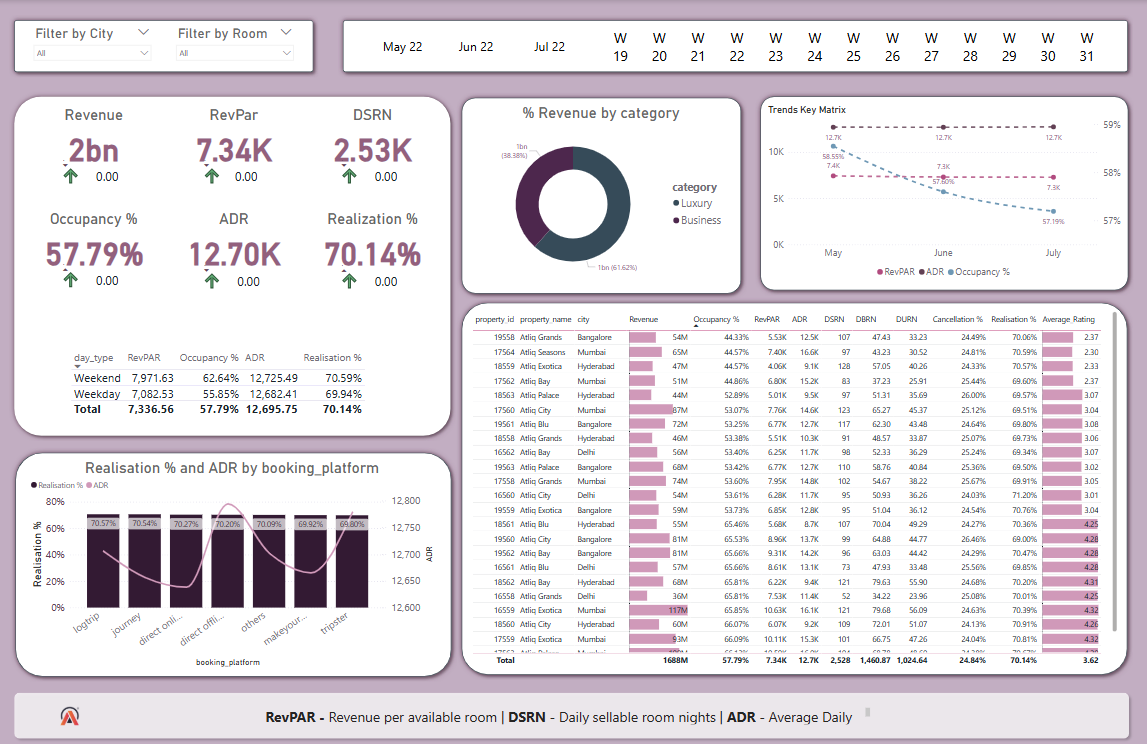

This screenshot's page, from the dashboard's own definition file:
{"tool":"powerbi","page":{"name":"Page 1","canvas":[2000,1300],"ordinal":0},"visuals":[{"type":"shape","box":[18.1,26.1,538.9,108.6],"z":0,"group":"g1"},{"type":"shape","box":[591.2,26.1,1385.4,108.6],"z":0,"group":"g2"},{"type":"shape","box":[1317.1,158.8,659.5,355.9],"z":0,"group":"g4"},{"type":"shape","box":[797.3,161.2,505.4,359.4],"z":0},{"type":"shape","box":[797.3,518.4,1178.5,666.6],"z":1000},{"type":"slicer","fields":{"Values":["dim_date.mmm yy"]},"box":[614.5,32.1,432.2,96.5],"z":2000,"group":"g5"},{"type":"slicer","fields":{"Values":["dim_hotels.city"]},"box":[51.3,38.2,225.2,84.5],"z":2000,"group":"g6"},{"type":"card","title":"Revenue","fields":{"Values":["key_measures_table.Revenue"]},"box":[44.5,185.2,243.1,114.5],"z":2000,"group":"g3"},{"type":"shape","box":[18.6,780.2,778.2,408.2],"z":2000},{"type":"slicer","fields":{"Values":["dim_date.week no"]},"box":[1024.6,32.1,928.8,96.5],"z":3000,"group":"g5"},{"type":"slicer","fields":{"Values":["dim_rooms.room_class"]},"box":[298.6,38.2,225.2,84.5],"z":3000,"group":"g6"},{"type":"shape","box":[17.9,158.8,778.2,609.3],"z":3000},{"type":"lineChart","title":"Trends Key Matrix","fields":{"Y":["key_measures_table.RevPAR","key_measures_table.ADR"],"Category":["dim_date.mmm yy.Variation.Date Hierarchy.Month","dim_date.week no"],"Y2":["key_measures_table.Occupancy %"]},"box":[1334.2,180.9,625.3,313.7],"z":3000,"group":"g4"},{"type":"tableEx","title":"Total Revenue","fields":{"Values":["key_measures_table.Revenue WoW change %"]},"box":[101.4,261.6,128.1,76.3],"z":3000,"group":"g3"},{"type":"donutChart","title":"% Revenue by category","fields":{"Y":["key_measures_table.Revenue"],"Category":["dim_hotels.category"]},"box":[823.4,180.8,450.9,324.6],"z":4000},{"type":"card","title":"RevPar","fields":{"Values":["key_measures_table.RevPAR"]},"box":[287.6,185.2,243.1,114.5],"z":5000,"group":"g3"},{"type":"tableEx","fields":{"Values":["dim_hotels.property_id","dim_hotels.property_name","dim_hotels.city","key_measures_table.Revenue","key_measures_table.Occupancy %","key_measures_table.RevPAR","key_measures_table.ADR","key_measures_table.DSRN","key_measures_table.DBRN","key_measures_table.DURN","key_measures_table.Cancellation %","key_measures_table.Realisation %"]},"box":[819,538,1134.9,629.5],"z":5000},{"type":"card","title":"DSRN","fields":{"Values":["key_measures_table.DSRN"]},"box":[531.1,185.3,243.1,114.5],"z":6000,"group":"g3"},{"type":"lineStackedColumnComboChart","fields":{"Category":["fact_bookings.booking_platform"],"Y":["key_measures_table.Realisation %"],"Y2":["key_measures_table.ADR"]},"box":[50.3,800.3,711.8,368],"z":6000},{"type":"group","id":"g1","title":"Group 2","box":[18.1,26.1,538.9,108.6],"z":7000},{"type":"card","title":"Occupancy %","fields":{"Values":["key_measures_table.Occupancy %"]},"box":[44.5,365.4,243.1,114.5],"z":7000,"group":"g3"},{"type":"group","id":"g2","title":"Group 4","box":[591.2,26.1,1385.4,108.6],"z":8000},{"type":"card","title":"ADR","fields":{"Values":["key_measures_table.ADR"]},"box":[287.6,365.4,243.1,114.5],"z":8000,"group":"g3"},{"type":"group","id":"g3","title":"Group 5","box":[44.5,185.2,729.7,551.1],"z":9000},{"type":"group","id":"g4","title":"Group 7","box":[1317.1,158.8,659.5,355.9],"z":10000},{"type":"tableEx","title":"Total Revenue","fields":{"Values":["key_measures_table.Revpar WoW change %"]},"box":[346.6,261.6,123.7,76.3],"z":10000,"group":"g3"},{"type":"tableEx","title":"Total Revenue","fields":{"Values":["key_measures_table.DSRN WoW change %"]},"box":[587.6,261.6,128.1,76.3],"z":11000,"group":"g3"},{"type":"shape","box":[17.4,1198.1,1960.5,98],"z":11000},{"type":"tableEx","title":"Total Revenue","fields":{"Values":["key_measures_table.Occupancy WoW change %"]},"box":[101.4,441.8,128.1,76.3],"z":12000,"group":"g3"},{"type":"image","box":[83.6,1226.7,81.3,42.7],"z":12000},{"type":"tableEx","title":"Total Revenue","fields":{"Values":["key_measures_table.ADR WoW change %"]},"box":[346.6,443.9,128.1,76.3],"z":13000,"group":"g3"},{"type":"textbox","box":[428.7,1228.2,1093.6,39],"z":13000},{"type":"tableEx","fields":{"Values":["key_measures_table.Realisation WoW change %"]},"box":[587.6,443.9,128.1,76.3],"z":14000,"group":"g3"},{"type":"tableEx","fields":{"Values":["dim_date.day_type","key_measures_table.RevPAR","key_measures_table.Occupancy %","key_measures_table.ADR","key_measures_table.Realisation %"]},"box":[119.9,604.9,575.2,131.4],"z":17000,"group":"g3"},{"type":"card","title":"Realization %","fields":{"Values":["key_measures_table.Realisation %"]},"box":[530.7,365.4,243.1,114.5],"z":17500,"group":"g3"},{"type":"group","id":"g5","title":"Group 3","box":[614.5,32.1,1338.8,96.5],"z":20000,"group":"g2"},{"type":"group","id":"g6","title":"Group 1","box":[51.3,38.2,472.5,84.5],"z":21000,"group":"g1"}]}

Visuals, with their boxes in screenshot pixels (x1, y1, x2, y2), scaled from the page's 2000x1300 canvas onto the 1147x744 screenshot:
shape: 10/15/319/77
shape: 339/15/1134/77
shape: 755/91/1134/295
shape: 457/92/747/298
shape: 457/297/1133/678
slicer - dim_date.mmm yy: 352/18/600/74
slicer - dim_hotels.city: 29/22/159/70
"Revenue" card: 26/106/165/172
shape: 11/447/457/680
slicer - dim_date.week no: 588/18/1120/74
slicer - dim_rooms.room_class: 171/22/300/70
shape: 10/91/457/440
"Trends Key Matrix" lineChart: 765/104/1124/283
"Total Revenue" tableEx: 58/150/132/193
"% Revenue by category" donutChart: 472/103/731/289
"RevPar" card: 165/106/304/172
tableEx - dim_hotels.property_id x dim_hotels.property_name: 470/308/1121/668
"DSRN" card: 305/106/444/172
lineStackedColumnComboChart - fact_bookings.booking_platform x key_measures_table.Realisation %: 29/458/437/669
"Group 2" group: 10/15/319/77
"Occupancy %" card: 26/209/165/275
"Group 4" group: 339/15/1134/77
"ADR" card: 165/209/304/275
"Group 5" group: 26/106/444/421
"Group 7" group: 755/91/1134/295
"Total Revenue" tableEx: 199/150/270/193
"Total Revenue" tableEx: 337/150/410/193
shape: 10/686/1134/742
"Total Revenue" tableEx: 58/253/132/297
image: 48/702/95/726
"Total Revenue" tableEx: 199/254/272/298
textbox: 246/703/873/725
tableEx - key_measures_table.Realisation WoW change %: 337/254/410/298
tableEx - dim_date.day_type x key_measures_table.RevPAR: 69/346/399/421
"Realization %" card: 304/209/444/275
"Group 3" group: 352/18/1120/74
"Group 1" group: 29/22/300/70
